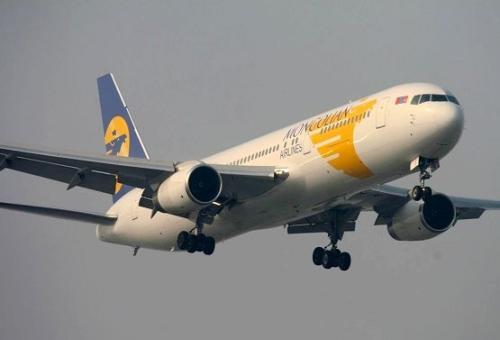airplane: (3, 71, 499, 272)
